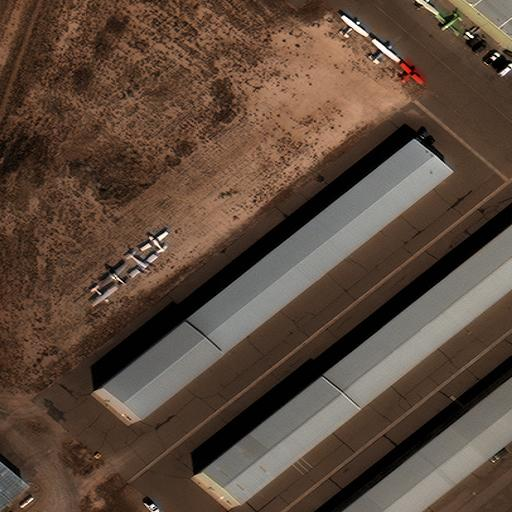Small Civil Transport: (129, 252, 158, 278), (371, 38, 400, 60), (99, 263, 126, 285), (139, 230, 166, 251), (434, 15, 459, 37), (342, 14, 368, 35), (93, 286, 119, 306), (400, 62, 424, 82), (411, 0, 437, 16)
